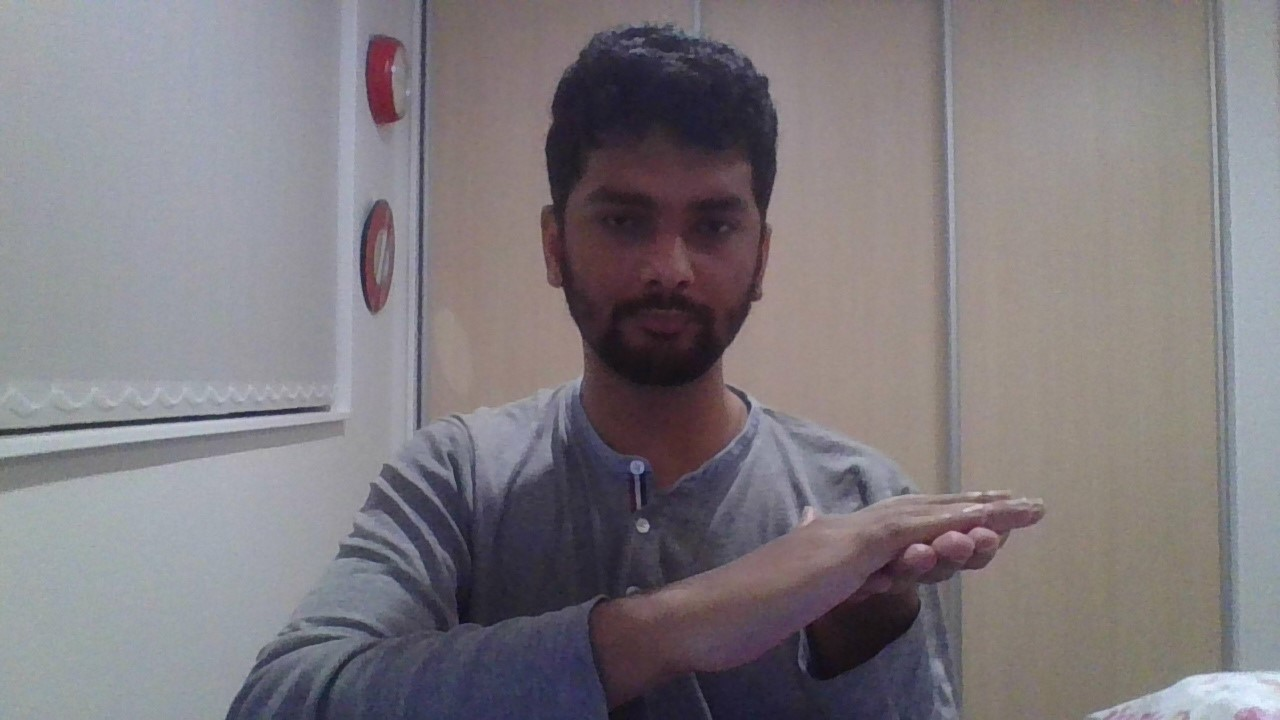clear: (647, 489, 1047, 674)
